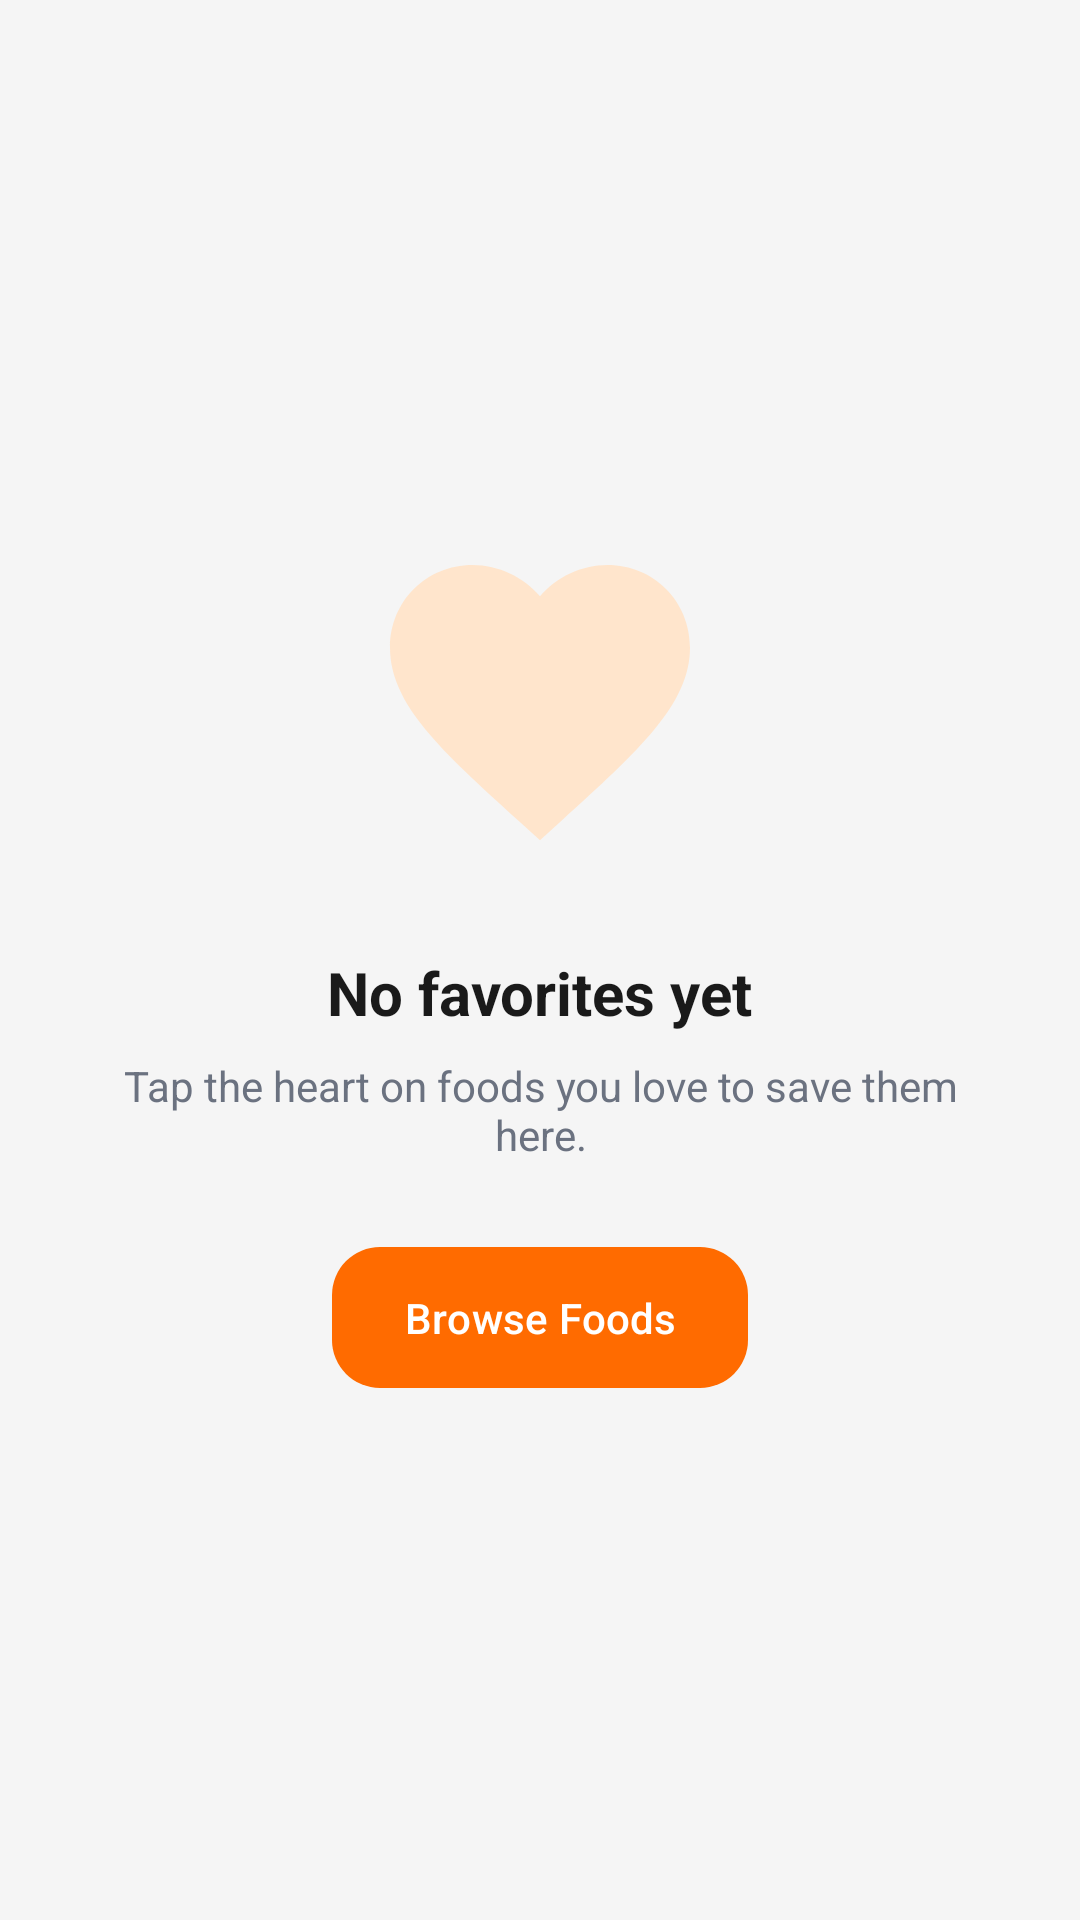

Where to tap for icons on this 1080*1920 app screen, as point (x, y):
empty favorites: point (540, 702)
